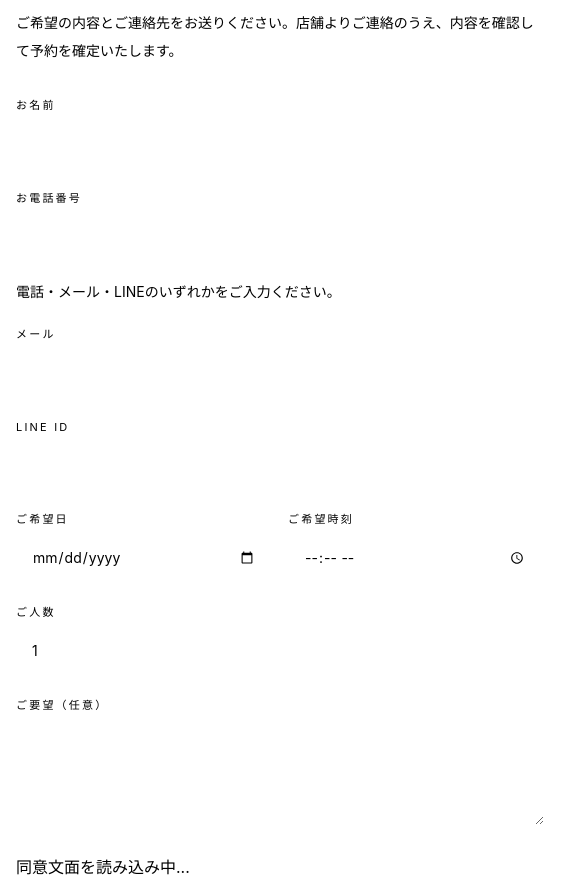
GuestReservationSection › 連絡先が欠けたままでは送らず、欄の傍で理由を述べる
The image size is (561, 880).
In the date field labelled "ご希望日": [144, 558] box [16,536,272,580], type "2026-08-25"
(page scrolled)
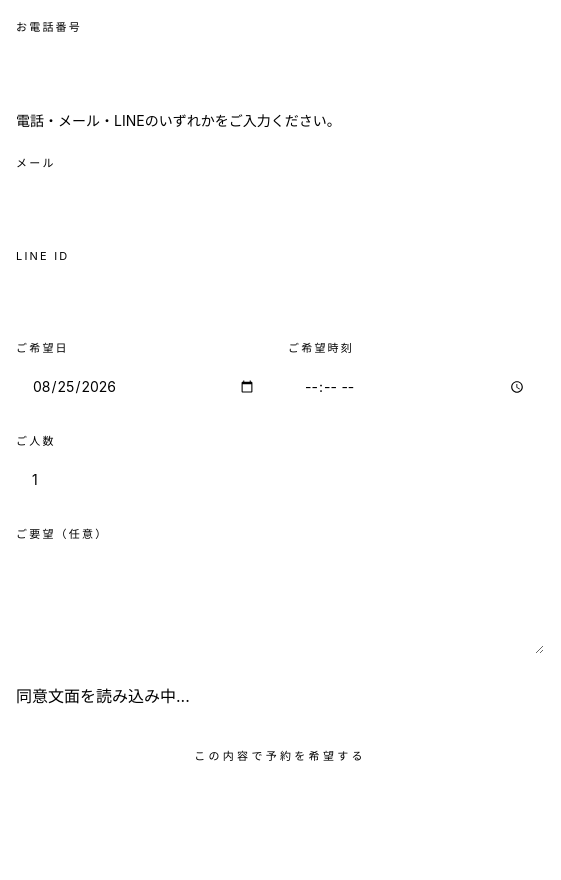
Click the button "この内容で予約を希望する": [280, 756] box [16,732,544,781]
(page scrolled)
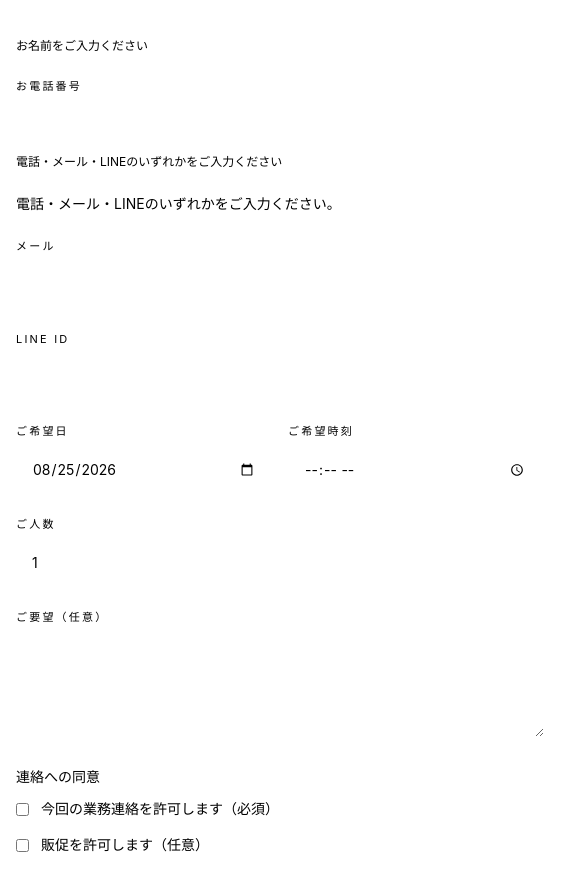
Now the text "お名前をご入力ください" is shown, box [16,38,148,52]
